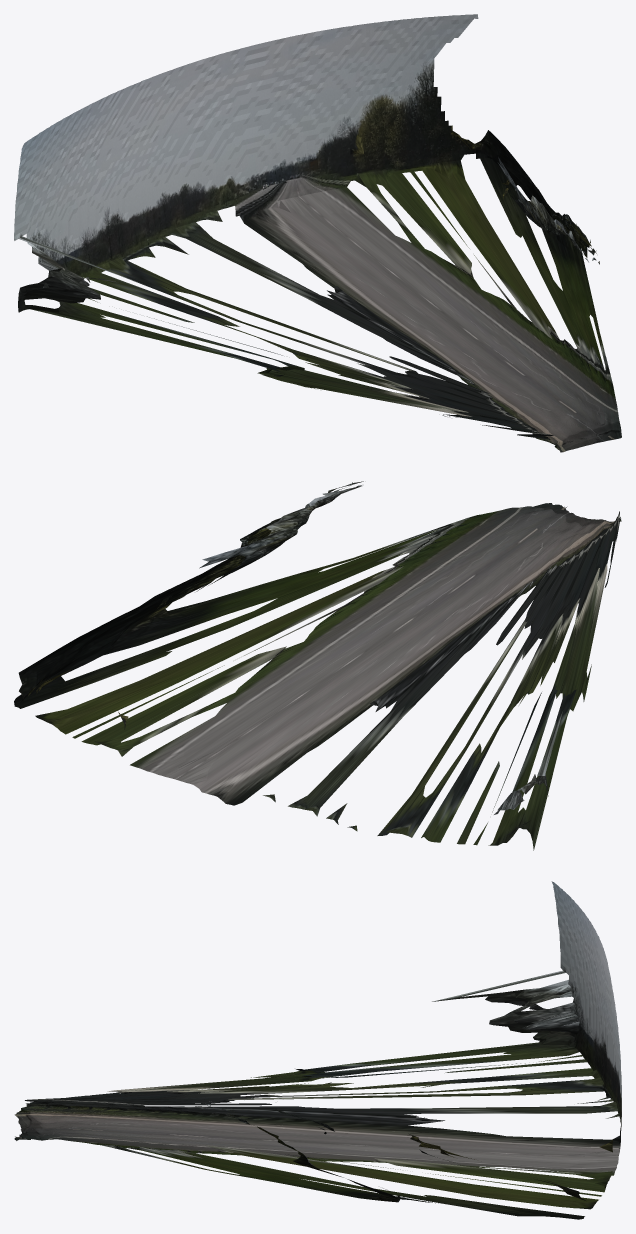
3 views of the same model, one above another, from view 1: azimuth 30°, elevation 25°; view 2: azimuth 150°, elevation 25°; view 3: azimuth 270°, elevation 25° (orthographic). The views are drawn at different scales.
Visible parts, largest first — view 1: defaultobject; view 2: defaultobject; view 3: defaultobject.
Boxes of the visible parts, left/top/right/bottom form: defaultobject: left=14, top=14, right=621, bottom=452; defaultobject: left=14, top=481, right=621, bottom=850; defaultobject: left=14, top=881, right=621, bottom=1219.
Size of the model in its own units: 36.95 by 13.29 by 44.73.
Materials: 1 (1 with a texture image).
